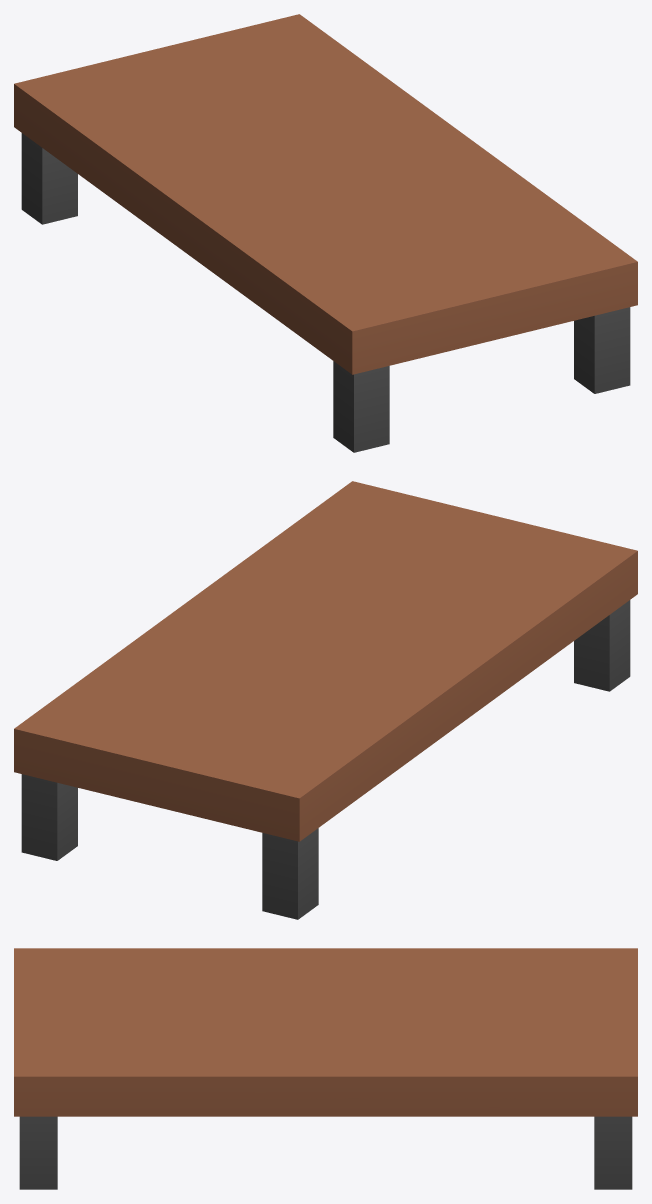
Rendered from table.fbx.
The picture shows the model from 3 angles, top to bottom: view 1: azimuth 30°, elevation 25°; view 2: azimuth 150°, elevation 25°; view 3: azimuth 270°, elevation 25°; orthographic projection. The views are drawn at different scales.
Parts seen in each view (by area): view 1: table; view 2: table; view 3: table.
Part boxes in pixels (x1,y1,x2,y2): table: [14, 14, 637, 452]; table: [14, 481, 637, 919]; table: [14, 948, 637, 1189].
Size of the model in its own units: 84.8 by 35.42 by 174.
Materials: 1 (1 with a texture image).
